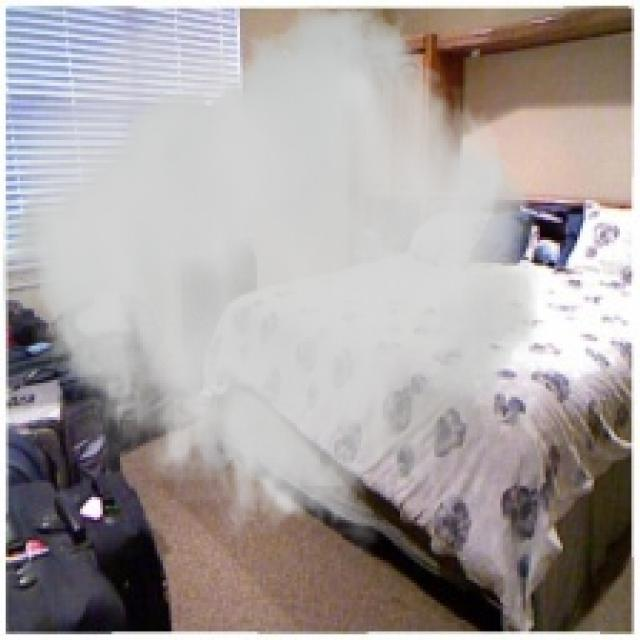smoke: (3, 6, 546, 554)
